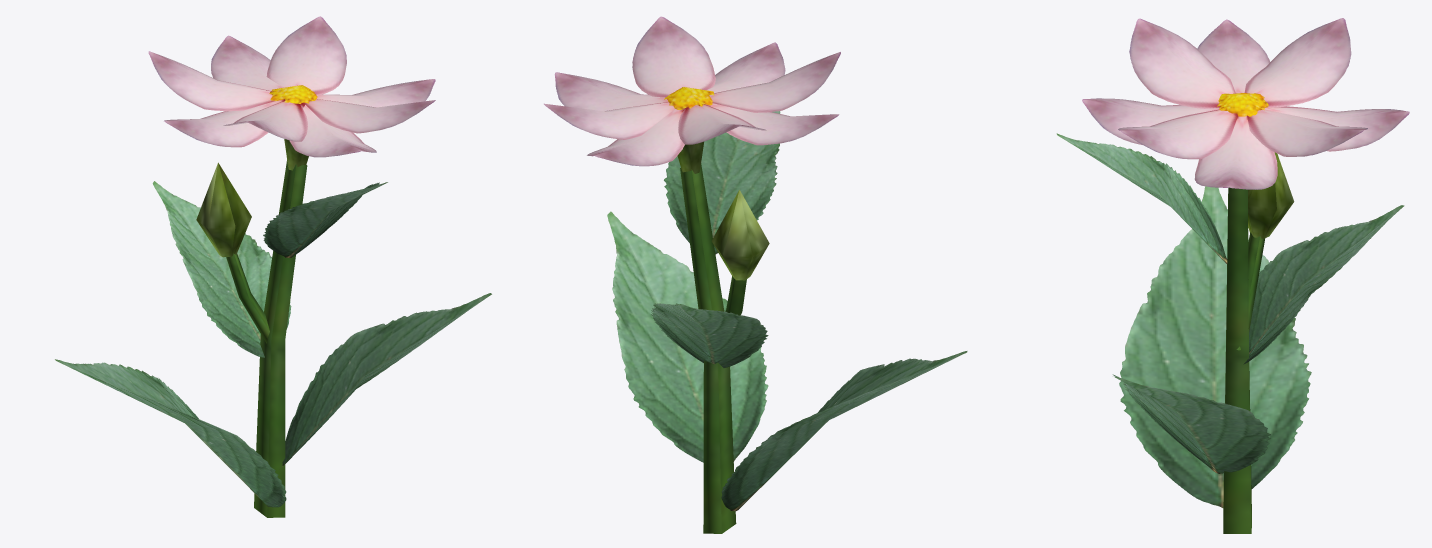
File: whitef2.fbx
3 renders of one model, left to right at view 1: azimuth 30°, elevation 25°; view 2: azimuth 150°, elevation 25°; view 3: azimuth 270°, elevation 25°, orthographic. The views are drawn at different scales.
Visible parts, largest first — view 1: whiteflw02; view 2: whiteflw02; view 3: whiteflw02.
Boxes of the visible parts, x1,y1,x2,y2 form: whiteflw02: (55,16,491,517); whiteflw02: (544,16,967,533); whiteflw02: (1056,18,1409,533).
Size of the model in its own units: 25.14 by 25.34 by 18.31.
